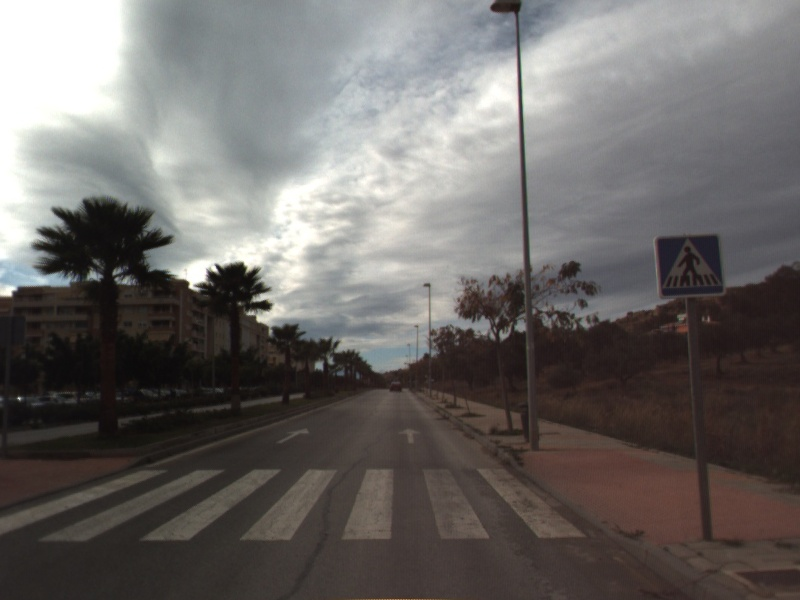STRAIGHT: (274, 426, 312, 445), (396, 425, 423, 445)
